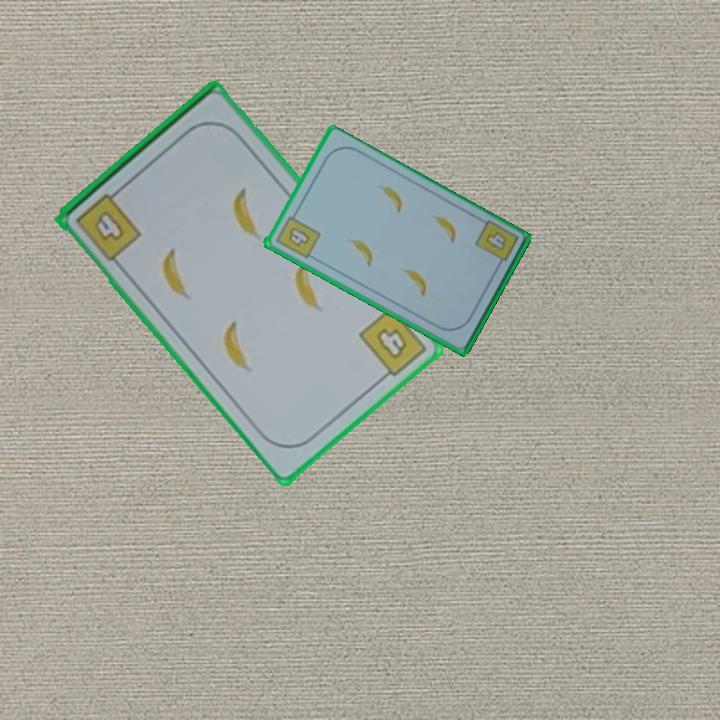4b: (355, 303, 430, 385), (72, 184, 145, 264), (271, 208, 323, 261), (471, 217, 521, 272)
